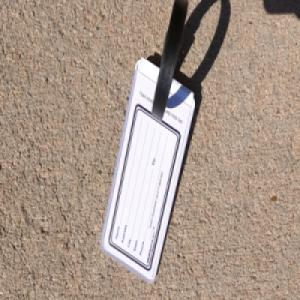LuggageTag: (99, 3, 196, 282)
